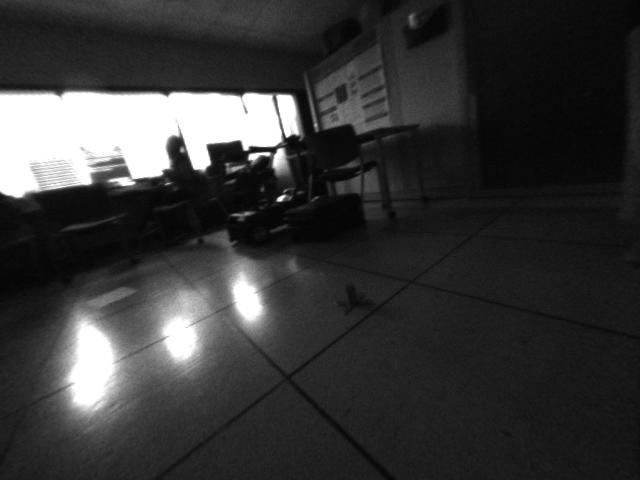x: (340, 282, 378, 319)
